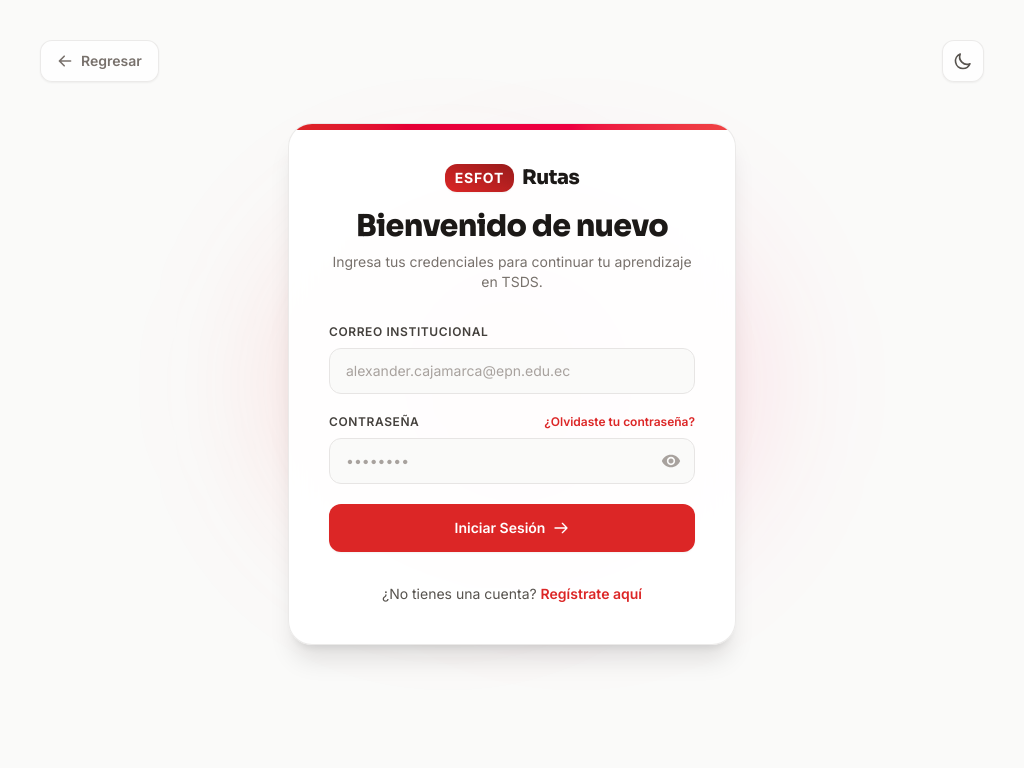
Login — reenvío de código OTP › el botón de reenviar solo aparece en el paso de OTP
This screenshot has width=1024, height=768.
Expected: the button "reenviar" is not shown
Type "ana@epn.edu.ec" into the field with placeholder "alexander.cajamarca@epn.edu.ec". click: x=512, y=371
box: [329, 348, 695, 394]
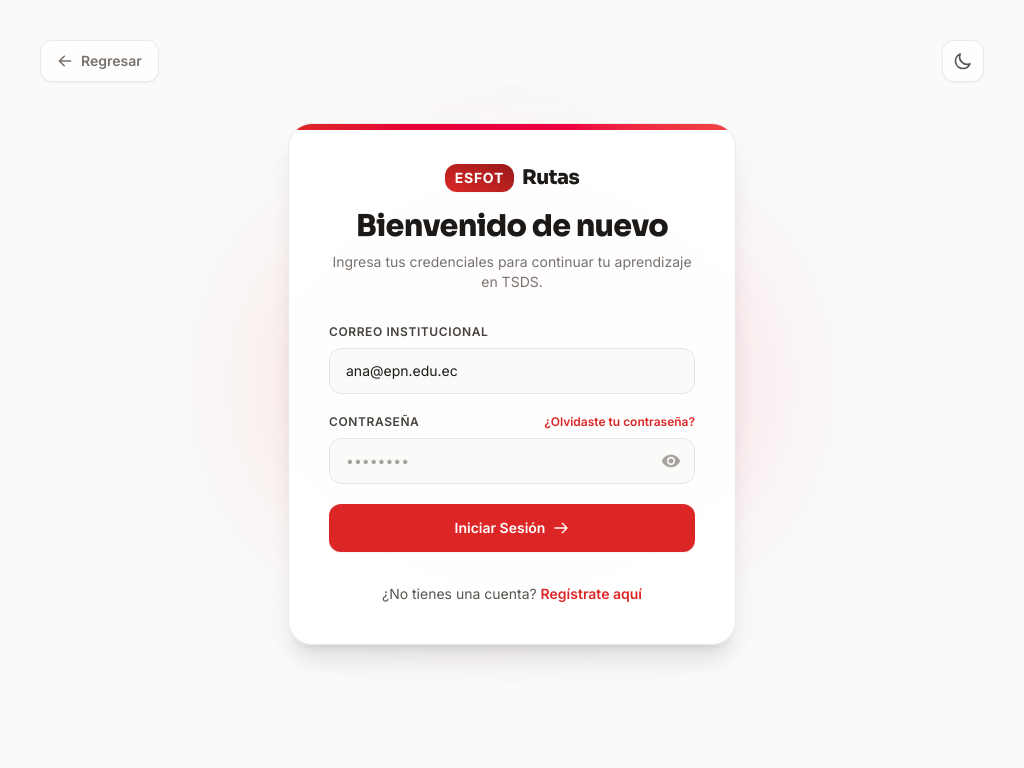
Type "Password123" into the password field with placeholder "••••••••". click: x=512, y=461
box: [329, 438, 695, 484]
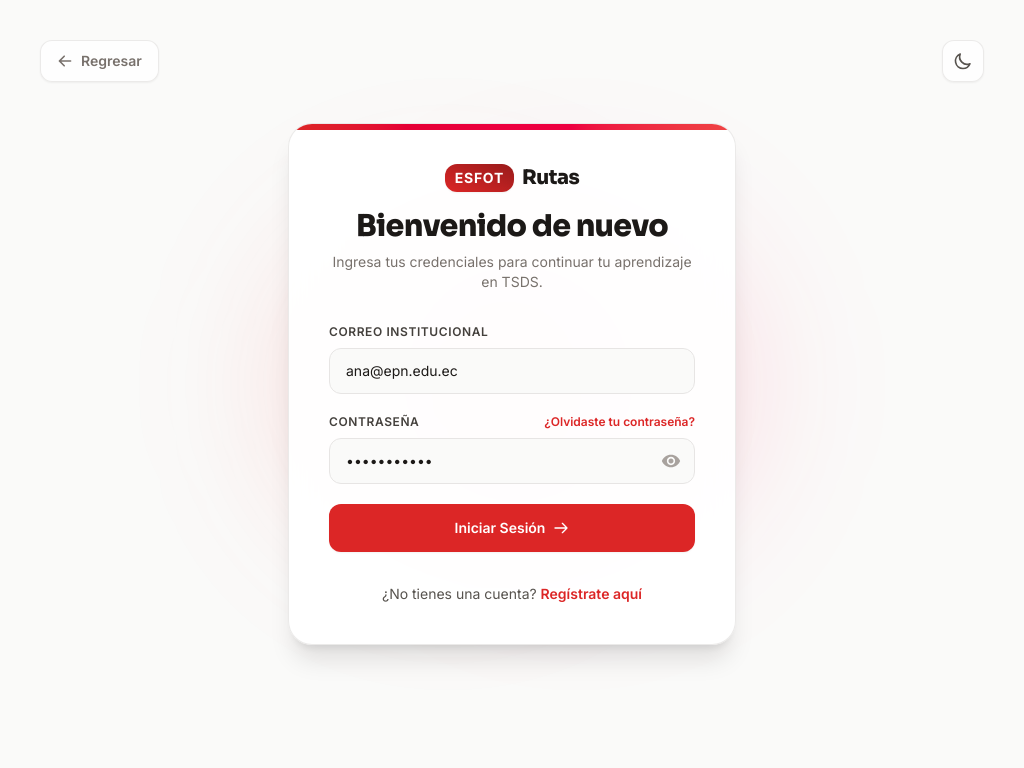
Click the button "Iniciar Sesión". click: x=512, y=528
box: [329, 504, 695, 552]
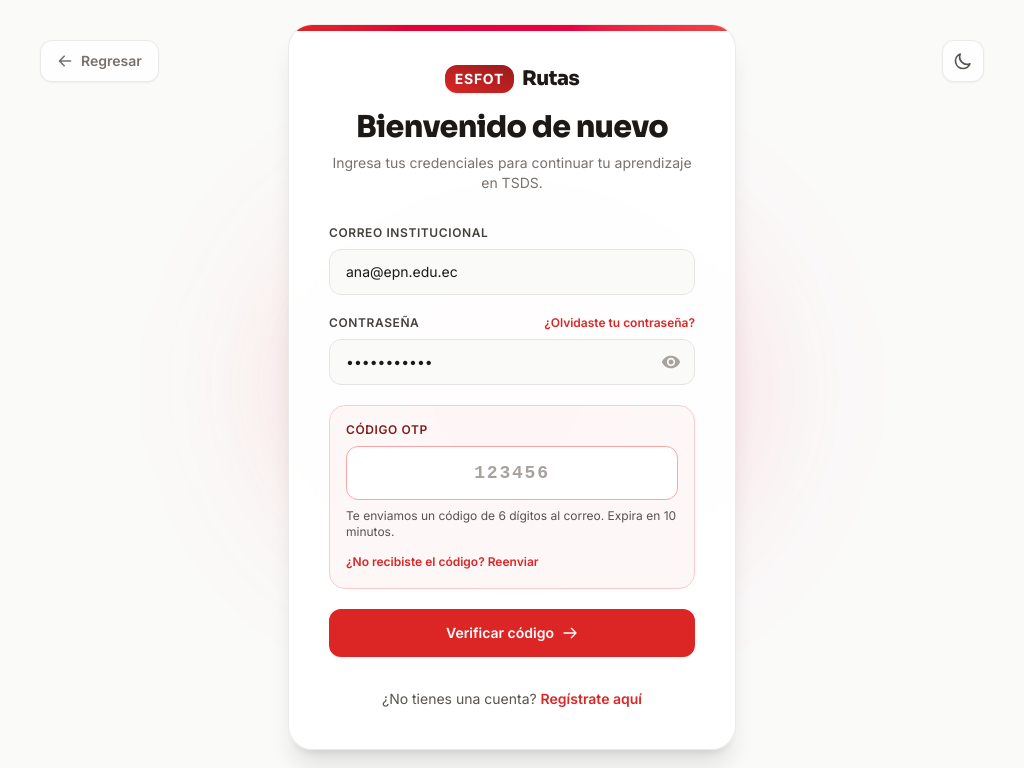
Now the button "¿No recibiste el código? Reenviar" is shown, box [346, 554, 538, 570]
